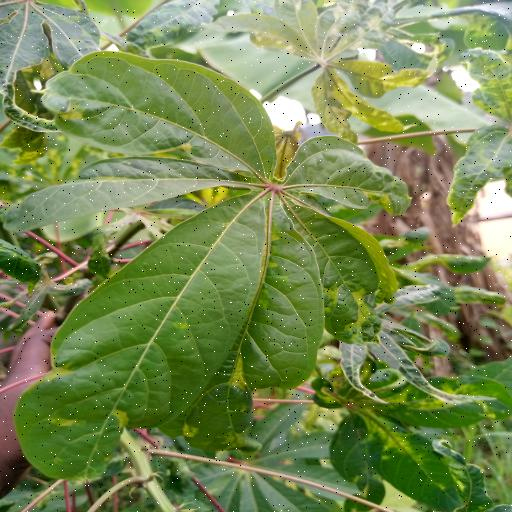Cassava_Mosaic: (0, 47, 411, 486), (212, 0, 441, 146), (308, 352, 512, 511)
